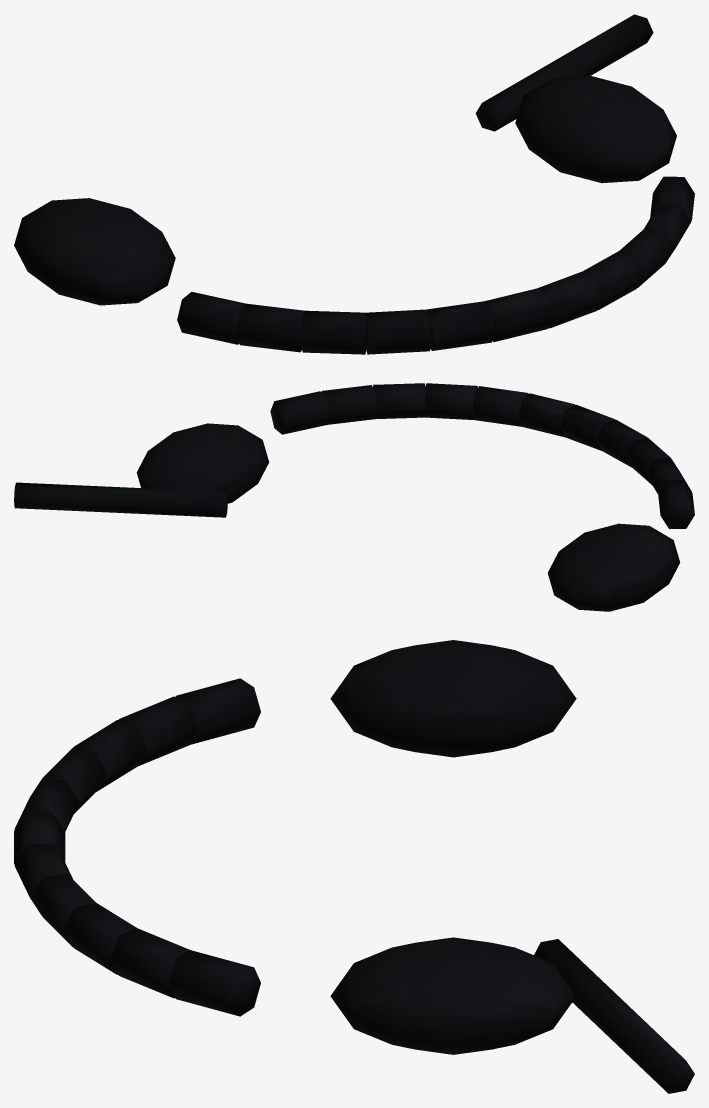
Rendered from HEADSET_001.glb.
The picture shows the model from 3 angles, top to bottom: view 1: azimuth 30°, elevation 25°; view 2: azimuth 150°, elevation 25°; view 3: azimuth 270°, elevation 25°; orthographic projection. The views are drawn at different scales.
Parts seen in each view (by area): view 1: earpad_011, earpad_012, mic_013, headband_007, headband_008, headband_009, headband_006, headband_010, headband_005, headband_004, headband_003, headband_002 (+2 smaller); view 2: earpad_011, earpad_012, mic_013, headband_000, headband_002, headband_003, headband_001, headband_004, headband_005, headband_010, headband_006, headband_007 (+2 smaller); view 3: earpad_011, earpad_012, mic_013, headband_000, headband_010, headband_001, headband_009, headband_002, headband_008, headband_003, headband_007, headband_005 (+2 smaller).
Boxes of the visible parts, x1,y1,x2,y2 form: earpad_011: (14, 198, 175, 305); earpad_012: (515, 75, 676, 183); mic_013: (475, 14, 653, 131); headband_007: (365, 309, 431, 354); headband_008: (301, 310, 366, 354); headband_009: (237, 303, 303, 352); headband_006: (427, 301, 494, 350); headband_010: (177, 291, 245, 344); headband_005: (483, 288, 553, 341); headband_004: (536, 271, 603, 328); headband_003: (583, 251, 644, 309); headband_002: (619, 227, 674, 287); earpad_011: (547, 523, 680, 611); earpad_012: (136, 423, 269, 503); mic_013: (14, 482, 227, 517); headband_000: (270, 391, 330, 434); headband_002: (373, 383, 425, 418); headband_003: (425, 383, 477, 419); headband_001: (321, 385, 376, 424); headband_004: (473, 386, 528, 426); headband_005: (518, 393, 574, 437); headband_010: (658, 480, 694, 529); headband_006: (560, 404, 614, 451); headband_007: (596, 419, 647, 467); earpad_011: (330, 640, 576, 757); earpad_012: (330, 937, 574, 1054); mic_013: (534, 939, 694, 1093); headband_000: (169, 950, 260, 1016); headband_010: (175, 678, 260, 744); headband_001: (110, 928, 191, 998); headband_009: (118, 696, 198, 766); headband_002: (63, 903, 136, 974); headband_008: (73, 720, 147, 791); headband_003: (31, 873, 95, 946); headband_007: (42, 747, 106, 813); headband_005: (14, 811, 65, 864).
Size of the model in its own units: 0.3104 by 0.0315 by 0.2129.
Materials: 1 (1 with a texture image).
